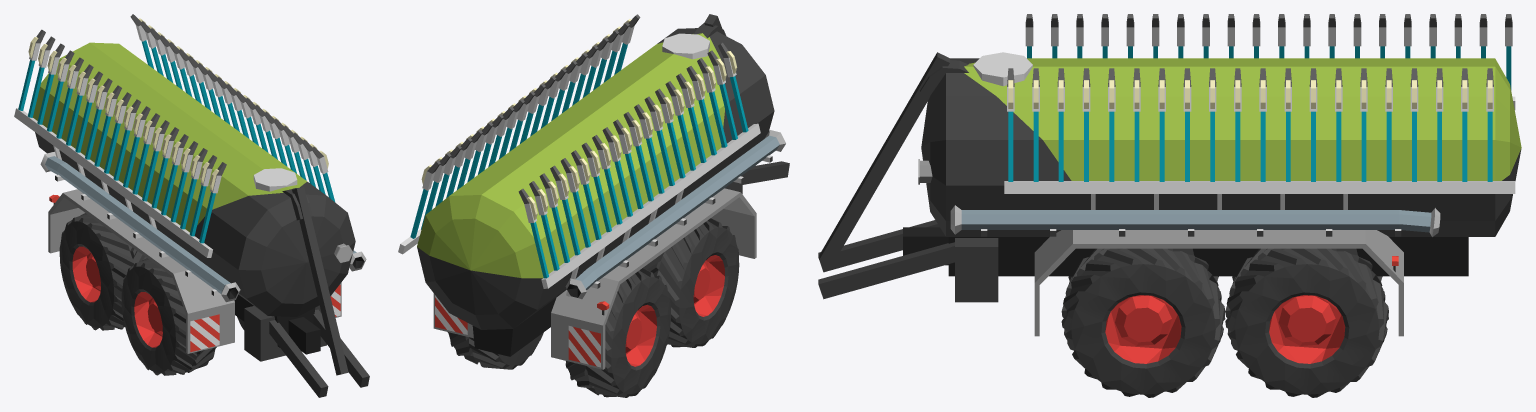
File: trailer_001.glb
The picture shows the model from 3 angles, left to right: view 1: azimuth 30°, elevation 25°; view 2: azimuth 150°, elevation 25°; view 3: azimuth 270°, elevation 25°; orthographic projection. The views are drawn at different scales.
Parts seen in each view (by area): view 1: trailer_001; view 2: trailer_001; view 3: trailer_001.
Boxes of the visible parts, left/top/right/bottom form: trailer_001: left=14, top=14, right=369, bottom=397; trailer_001: left=398, top=14, right=789, bottom=397; trailer_001: left=818, top=14, right=1521, bottom=397.
Bounding box in the file's own units: 2.52 × 3.67 × 7.45.
1 material, 1 textured.
